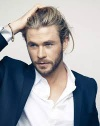male: (22, 6, 73, 76)
